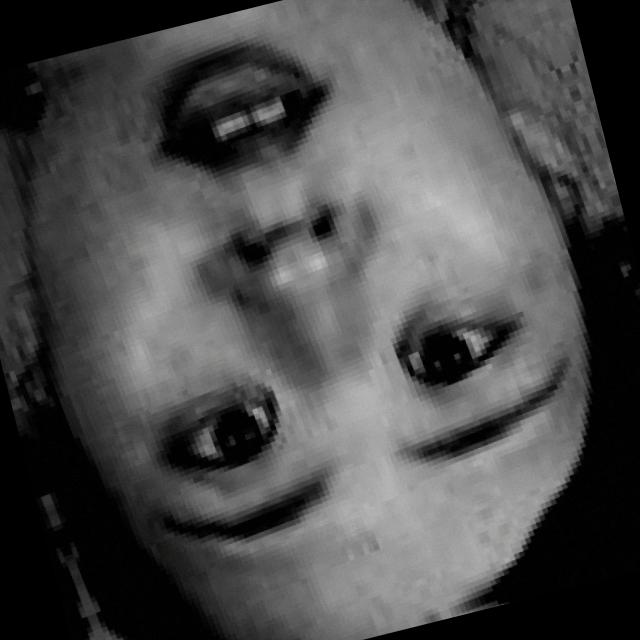fear: (11, 0, 609, 617)
